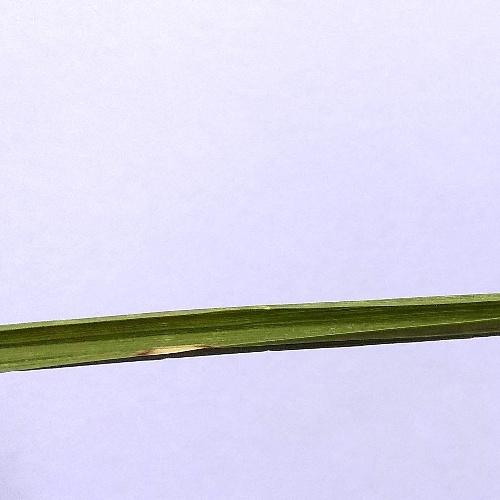Busuk Leher: (128, 341, 215, 370)
